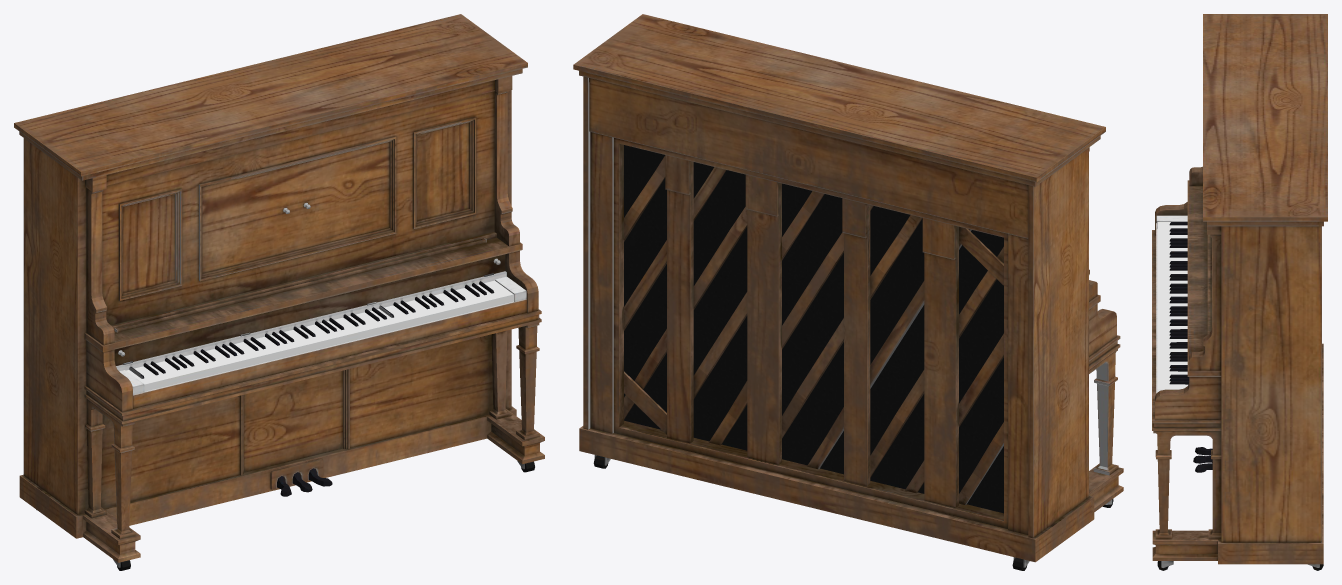
The picture shows the model from 3 angles, left to right: view 1: azimuth 30°, elevation 25°; view 2: azimuth 150°, elevation 25°; view 3: azimuth 270°, elevation 25°; orthographic projection. The views are drawn at different scales.
Parts seen in each view (by area): view 1: Cube, Cube.002, Cube.004; view 2: Cube, Cube.005; view 3: Cube, Cube.002, Cube.004.
Boxes of the visible parts, <box> form: Cube: <box>14,14,544,567</box>; Cube.002: <box>126,280,513,384</box>; Cube.004: <box>277,468,332,496</box>; Cube: <box>573,14,1123,567</box>; Cube.005: <box>624,145,1003,513</box>; Cube: <box>1152,14,1327,567</box>; Cube.002: <box>1157,222,1189,389</box>; Cube.004: <box>1193,447,1212,472</box>.
Bounding box in the file's own units: 152 × 126 × 55.67.
Materials: 1 (1 with a texture image).
